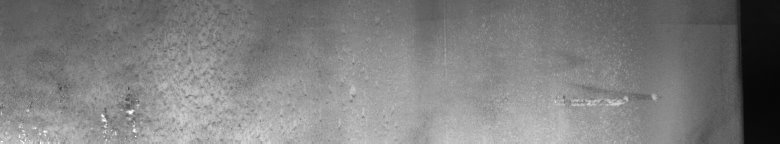hc: (17, 10, 241, 136)
